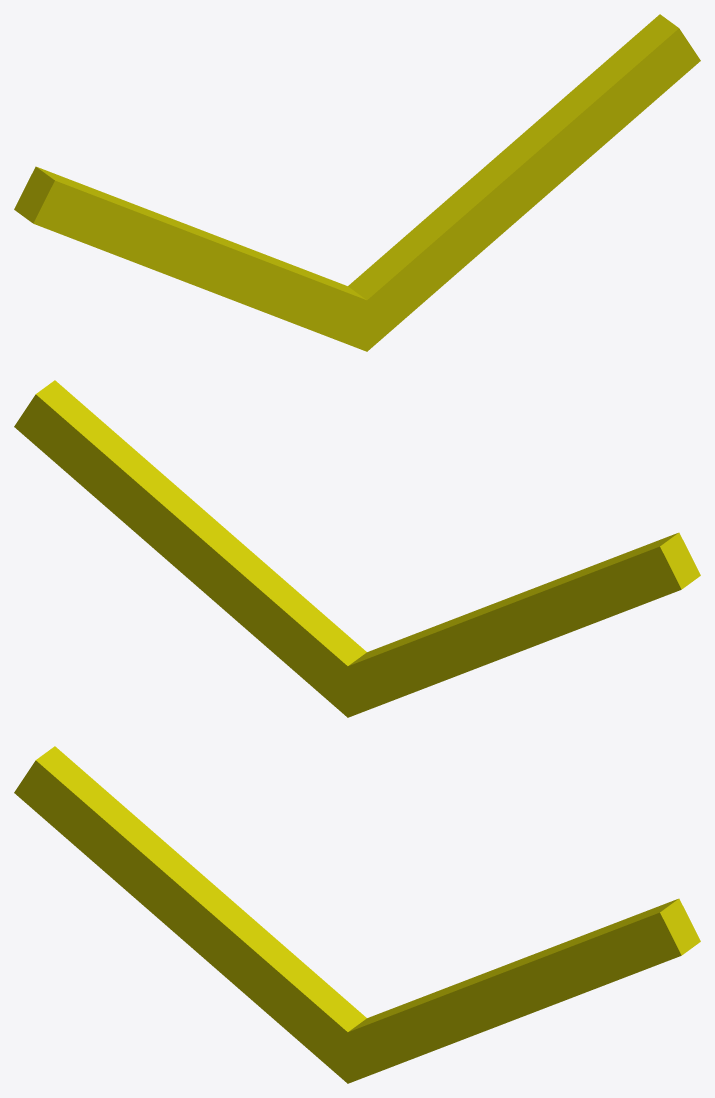
The model's file is downArrow.glb.
The picture shows the model from 3 angles, top to bottom: view 1: azimuth 30°, elevation 25°; view 2: azimuth 150°, elevation 25°; view 3: azimuth 330°, elevation 25°; orthographic projection.
Parts seen in each view (by area): view 1: Body1; view 2: Body1; view 3: Body1.
Boxes of the visible parts, <box> form: Body1: <box>14,14,700,351</box>; Body1: <box>14,380,700,717</box>; Body1: <box>14,746,700,1083</box>.
Size of the model in its own units: 2 by 0.7085 by 0.1.
